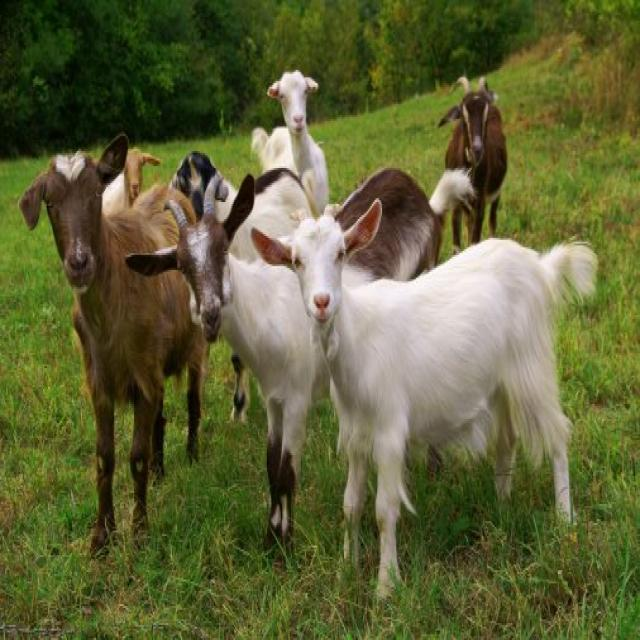Goat: (258, 206, 582, 564), (18, 142, 185, 549), (142, 190, 280, 537), (432, 69, 514, 200), (260, 73, 340, 201)
